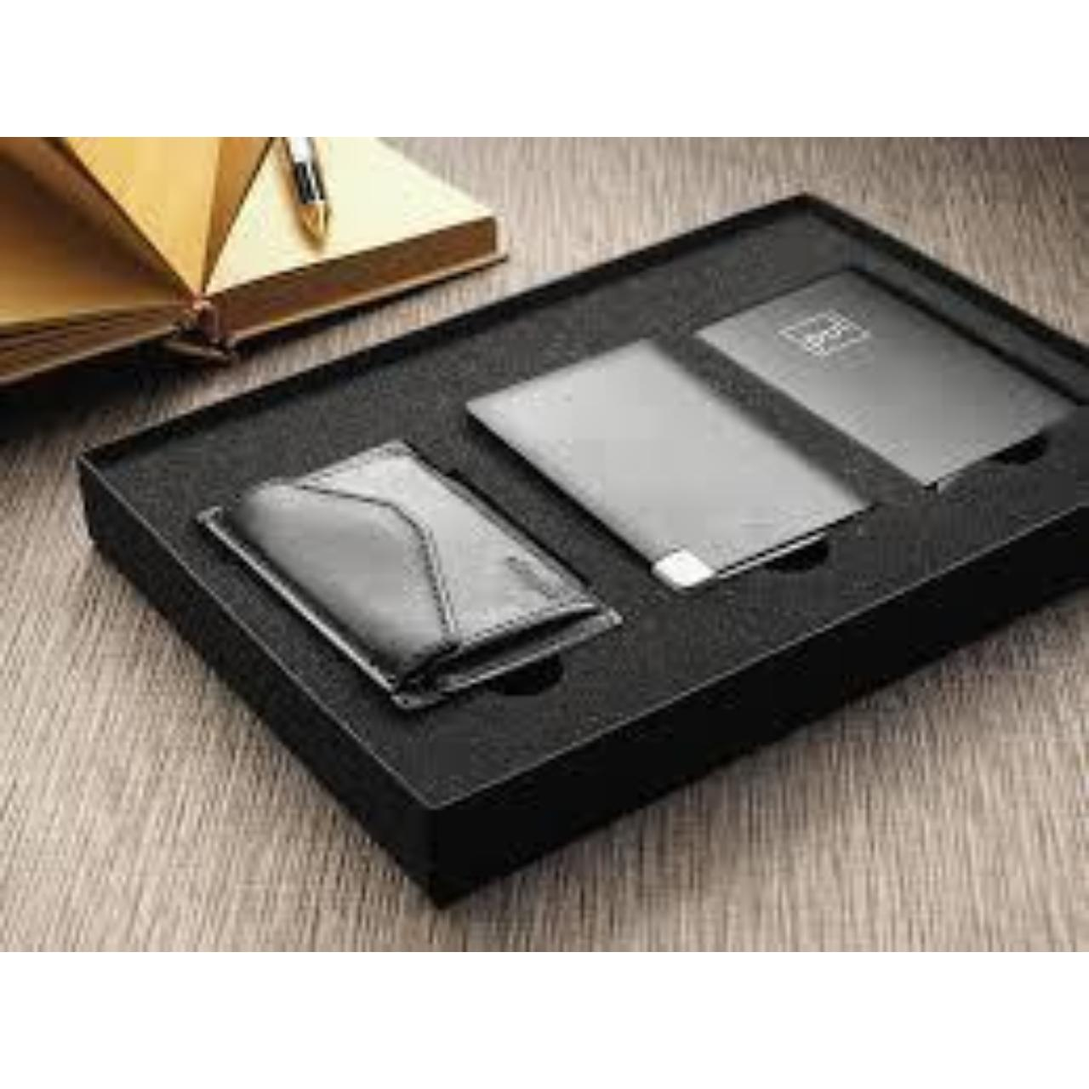wallet: (183, 431, 552, 700)
